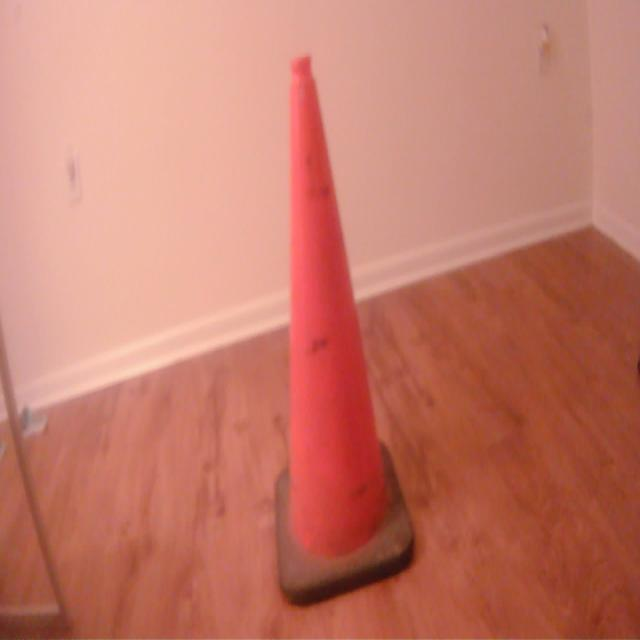traffic cone: (269, 42, 422, 619)
